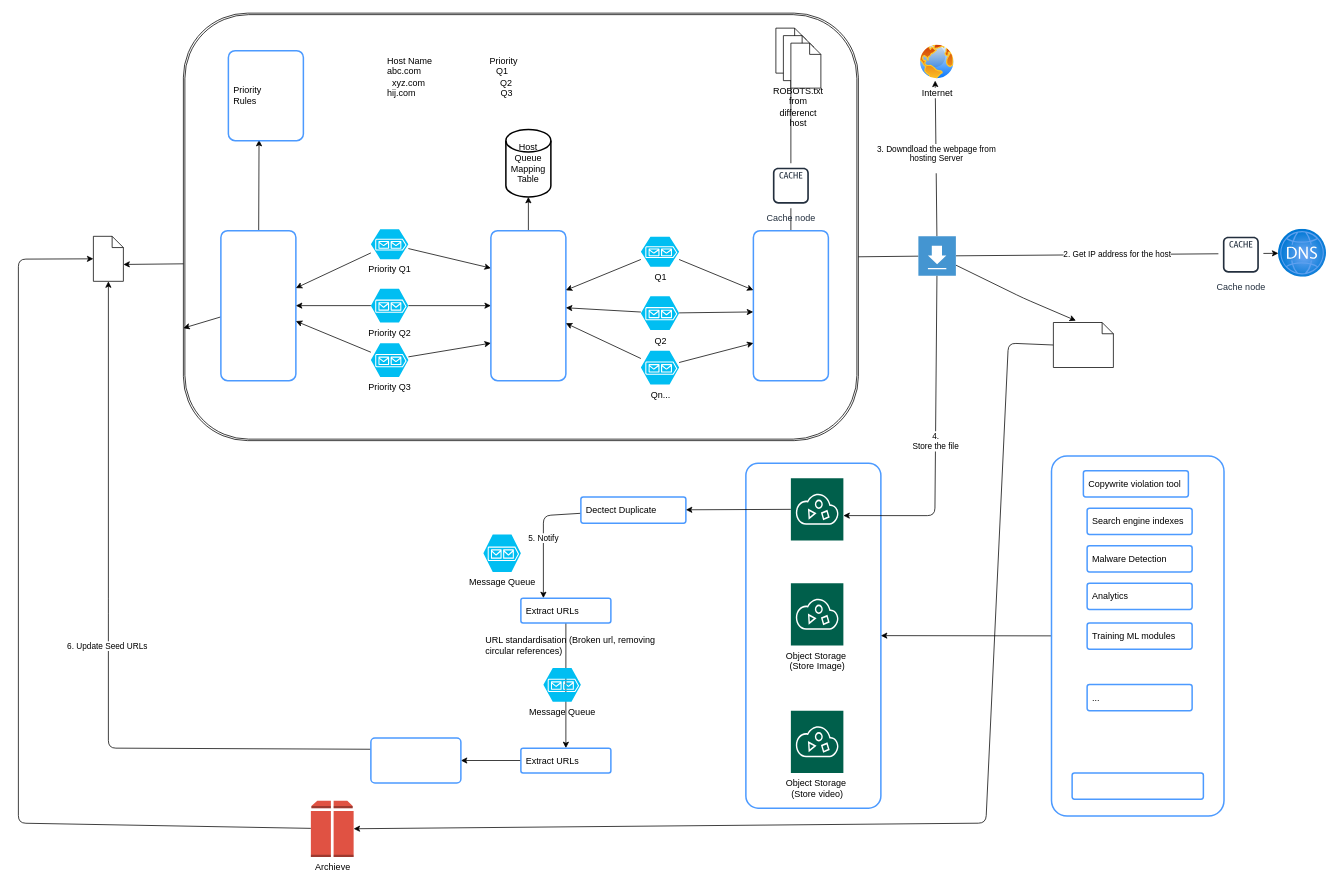
Image size: 1340x886. Some labels were removed from this diagram. Each missing label, with the centre of its shape:
Filter URL services: the point at 415,760
HTML Downloader and renderer: the point at 937,255
log files restart from point of fail: the point at 1083,345
Object Storage (Store HTML Page Text): the point at 816,509
Priority Computer: the point at 258,305
Q Processor: the point at 790,305
Q Selector and Router: the point at 528,305
Seed URLs: the point at 108,258
Usecases for downloaded the data: the point at 1137,786
